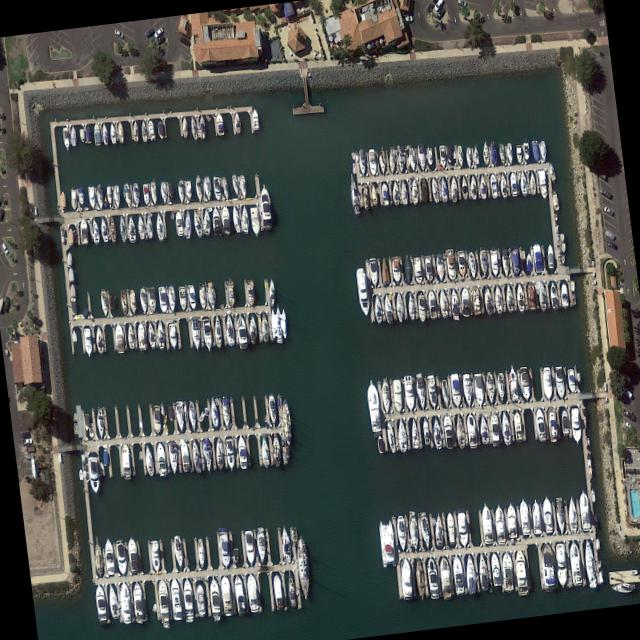ship: (293, 539, 310, 600), (364, 379, 382, 433), (376, 520, 395, 568), (539, 542, 555, 592), (354, 268, 370, 316), (513, 548, 528, 596), (581, 539, 596, 584), (553, 542, 567, 590), (270, 305, 287, 344), (567, 542, 582, 586), (156, 579, 170, 624), (425, 558, 439, 600), (168, 578, 182, 620), (258, 186, 271, 231), (577, 491, 591, 532), (219, 575, 233, 616), (399, 556, 412, 599), (438, 556, 451, 599), (463, 553, 476, 595), (118, 582, 131, 624), (231, 576, 245, 614), (280, 399, 291, 446), (480, 505, 493, 544), (500, 552, 513, 591), (346, 173, 359, 212), (207, 579, 220, 617), (245, 574, 258, 612), (451, 556, 464, 594), (86, 456, 99, 494), (131, 582, 143, 623), (406, 513, 419, 550), (93, 584, 106, 621), (476, 552, 488, 592), (402, 375, 415, 411), (106, 583, 119, 619), (181, 579, 193, 618), (242, 530, 255, 566), (493, 505, 505, 543), (441, 414, 454, 449), (455, 512, 468, 547), (394, 516, 407, 551), (565, 496, 577, 533), (506, 364, 518, 401), (541, 497, 553, 534), (114, 539, 126, 576), (102, 538, 114, 575), (218, 531, 230, 568), (279, 527, 291, 564), (504, 504, 517, 538), (413, 560, 424, 600), (499, 410, 511, 446), (517, 500, 529, 536), (284, 571, 296, 607), (271, 574, 283, 610), (518, 367, 530, 402), (487, 411, 499, 446), (453, 414, 465, 449), (126, 537, 138, 572), (465, 415, 477, 449), (488, 552, 500, 586), (254, 530, 266, 564), (569, 407, 580, 444), (120, 443, 131, 480), (414, 377, 426, 410), (425, 375, 437, 408), (472, 374, 484, 407), (554, 502, 566, 535), (553, 366, 565, 399), (431, 514, 443, 547), (418, 516, 430, 549), (171, 535, 183, 568), (235, 316, 247, 349), (546, 406, 557, 441), (190, 438, 201, 473), (449, 373, 460, 407), (461, 374, 472, 408), (534, 408, 545, 442), (541, 366, 552, 400), (201, 438, 212, 472), (149, 540, 160, 574), (92, 542, 103, 576), (155, 442, 166, 476), (224, 438, 235, 472), (236, 435, 247, 469), (444, 249, 456, 280), (391, 379, 402, 412), (530, 501, 541, 534), (167, 441, 178, 474), (270, 433, 281, 466), (223, 314, 234, 347), (178, 441, 190, 471), (384, 421, 395, 453), (213, 437, 224, 469), (258, 436, 269, 468), (367, 257, 378, 288), (194, 584, 205, 615), (481, 285, 492, 316), (547, 280, 558, 311), (143, 446, 154, 477), (113, 323, 124, 354), (212, 315, 222, 349), (201, 318, 211, 352), (380, 381, 390, 414), (484, 373, 495, 403), (396, 419, 406, 452), (478, 414, 489, 444), (266, 395, 277, 425), (190, 318, 200, 351), (431, 418, 441, 450), (445, 512, 455, 544), (536, 280, 546, 312), (531, 244, 542, 273), (191, 209, 202, 238), (536, 169, 546, 200), (459, 286, 469, 317), (393, 292, 403, 323), (382, 293, 392, 324), (514, 282, 524, 313), (495, 372, 505, 402), (402, 255, 412, 285), (437, 288, 447, 318), (503, 283, 513, 313), (94, 409, 104, 439), (186, 401, 196, 431), (208, 397, 218, 427), (220, 398, 230, 428), (249, 207, 259, 237), (135, 321, 145, 351), (512, 411, 522, 440), (372, 295, 382, 324), (426, 289, 436, 318), (93, 325, 103, 354), (390, 256, 400, 284), (366, 148, 376, 176), (470, 287, 480, 315), (448, 288, 458, 316), (434, 254, 444, 282), (525, 282, 535, 310), (151, 405, 161, 433), (174, 404, 184, 432), (210, 207, 220, 235), (230, 205, 240, 233), (409, 418, 418, 449), (195, 538, 204, 569), (379, 257, 389, 284), (415, 144, 425, 171), (493, 284, 502, 314), (412, 257, 422, 284), (225, 280, 235, 307), (259, 312, 268, 342), (247, 315, 256, 345), (145, 322, 155, 349), (610, 583, 634, 594), (440, 379, 449, 408), (489, 249, 498, 278), (154, 212, 163, 241), (220, 205, 229, 234), (82, 328, 91, 357), (155, 320, 164, 349), (500, 250, 509, 278), (416, 294, 425, 322), (239, 205, 248, 233), (118, 289, 127, 317), (245, 279, 254, 307), (167, 323, 176, 351), (135, 215, 145, 240), (357, 149, 366, 176), (518, 170, 527, 197), (467, 252, 476, 279), (478, 249, 487, 276), (456, 250, 465, 277), (423, 255, 432, 282), (126, 216, 135, 243), (90, 219, 99, 246), (157, 286, 166, 313), (197, 284, 206, 311), (206, 282, 215, 309), (396, 149, 406, 173), (98, 218, 108, 242), (448, 177, 457, 203), (508, 171, 517, 197), (177, 286, 186, 312), (147, 287, 156, 313), (166, 286, 175, 312), (186, 284, 195, 310), (183, 210, 191, 239), (566, 368, 575, 393), (459, 175, 468, 200), (438, 177, 447, 202), (429, 177, 438, 202), (390, 180, 399, 205), (477, 174, 486, 199), (488, 173, 497, 198), (559, 282, 568, 307), (545, 243, 554, 268), (193, 177, 202, 202), (202, 176, 211, 201), (131, 183, 140, 208), (78, 220, 87, 245), (125, 324, 134, 349), (202, 209, 210, 237), (361, 183, 369, 210), (498, 173, 507, 197), (510, 250, 519, 274), (211, 177, 220, 201), (122, 183, 131, 207), (108, 216, 116, 243), (99, 290, 107, 317), (421, 419, 429, 445), (127, 289, 135, 315), (138, 288, 146, 314), (86, 186, 95, 209), (560, 409, 568, 434), (189, 116, 197, 141), (419, 177, 427, 202), (410, 180, 418, 205), (387, 148, 395, 173), (407, 147, 415, 172), (406, 294, 414, 319), (174, 211, 182, 236), (238, 174, 246, 199), (158, 181, 167, 203), (118, 215, 125, 243), (197, 115, 205, 139), (481, 141, 489, 165), (144, 214, 152, 238), (61, 127, 69, 151), (267, 279, 274, 306), (215, 113, 223, 136), (468, 176, 476, 199), (399, 181, 407, 204), (380, 183, 388, 206), (377, 151, 385, 174), (530, 140, 538, 163), (527, 172, 535, 195), (220, 177, 228, 200), (92, 123, 100, 146), (95, 187, 103, 210), (104, 186, 112, 209), (112, 185, 120, 208), (232, 112, 240, 134), (538, 140, 546, 162), (489, 144, 497, 166), (139, 120, 147, 142), (107, 122, 115, 144), (141, 183, 149, 205), (176, 180, 184, 202), (100, 123, 108, 145), (149, 181, 156, 205), (230, 174, 238, 195), (370, 183, 377, 206), (438, 145, 445, 168), (557, 233, 565, 253), (251, 108, 258, 130), (464, 146, 471, 168), (116, 121, 123, 143), (69, 188, 76, 210), (375, 435, 383, 454), (79, 306, 89, 321), (131, 120, 138, 141), (551, 190, 558, 211), (455, 146, 462, 167), (505, 143, 512, 164), (497, 144, 504, 164), (524, 253, 531, 273), (515, 145, 522, 164), (184, 181, 191, 200), (181, 116, 187, 138), (147, 120, 154, 138), (425, 147, 432, 165), (472, 146, 479, 164), (69, 126, 75, 147), (68, 284, 75, 302), (156, 122, 163, 139), (290, 526, 297, 543), (166, 406, 173, 422), (522, 142, 528, 160), (102, 448, 108, 466), (59, 191, 65, 209), (67, 228, 73, 246), (97, 462, 104, 477), (548, 163, 554, 180), (445, 146, 451, 163), (85, 126, 91, 143), (77, 188, 83, 205), (87, 423, 93, 439), (197, 410, 204, 423), (78, 128, 84, 143), (65, 252, 71, 267), (203, 113, 211, 124), (83, 413, 88, 430), (67, 268, 73, 282), (589, 489, 595, 502), (70, 329, 76, 342), (232, 548, 237, 563), (167, 183, 172, 198), (628, 568, 637, 576), (73, 422, 78, 436), (594, 538, 599, 550), (77, 468, 82, 480), (413, 372, 421, 379), (569, 281, 574, 292), (151, 602, 156, 613), (183, 617, 192, 623), (202, 407, 207, 417), (71, 412, 76, 422), (161, 623, 169, 629), (138, 450, 142, 461), (521, 250, 525, 261), (212, 616, 219, 622), (560, 254, 564, 264), (452, 315, 459, 320), (169, 212, 173, 220)
small-vehicle: (622, 408, 634, 422), (621, 386, 633, 400), (598, 187, 610, 200), (1, 296, 9, 314), (623, 420, 634, 433), (152, 26, 163, 39), (434, 6, 444, 20), (432, 0, 443, 12), (112, 28, 123, 39), (603, 229, 614, 240), (425, 1, 434, 14), (143, 26, 152, 39), (0, 241, 8, 255), (602, 205, 612, 216), (178, 36, 189, 46), (400, 15, 412, 24), (154, 34, 163, 45), (607, 240, 615, 249), (455, 0, 465, 7), (20, 432, 30, 439), (21, 438, 31, 445), (430, 0, 436, 5), (0, 209, 3, 219)
